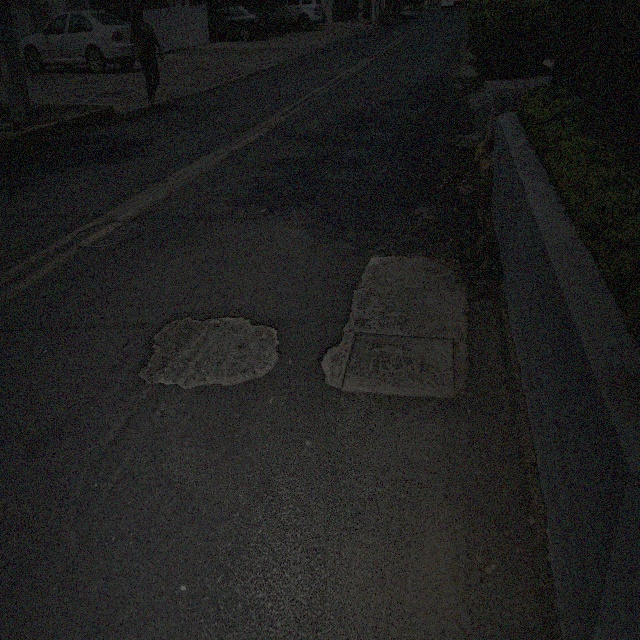pothole: (318, 245, 469, 399), (136, 307, 283, 396)
